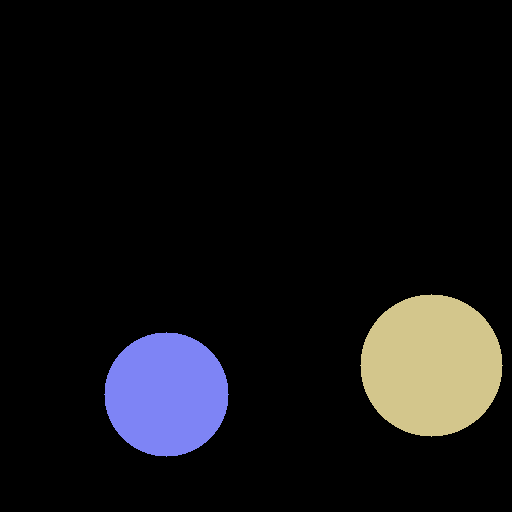circle: (360, 294, 502, 436), (104, 332, 228, 456)
